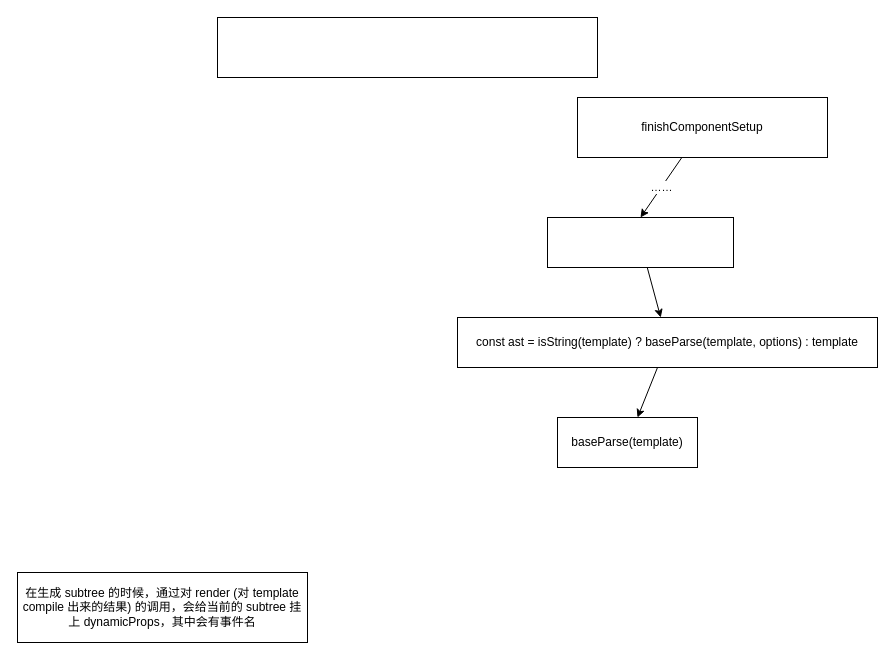
Some shapes in this 895 by 660 pixel diagram are drawn without their labels. The centre of each missing label's shape, as x and y in pixels:
"baseCompile" belongs at [640,242].
"对 template 进行 compile 的时候，会解析出各个props，事件名等" belongs at [407,47].
